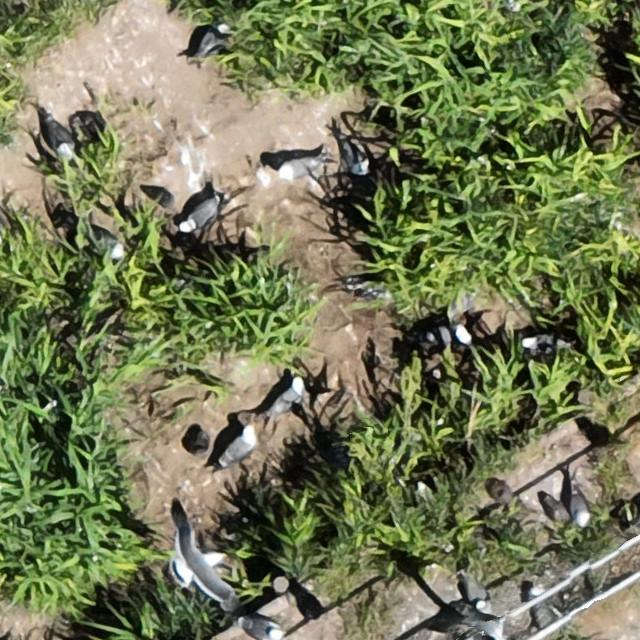F: (174, 522, 238, 606)
umineko: (192, 23, 233, 59), (85, 228, 128, 258), (184, 198, 218, 230), (224, 431, 256, 464), (46, 116, 72, 154), (461, 573, 485, 611), (277, 380, 305, 410), (243, 618, 282, 638), (279, 159, 315, 179), (571, 492, 590, 526), (451, 324, 472, 347), (524, 335, 550, 351)
